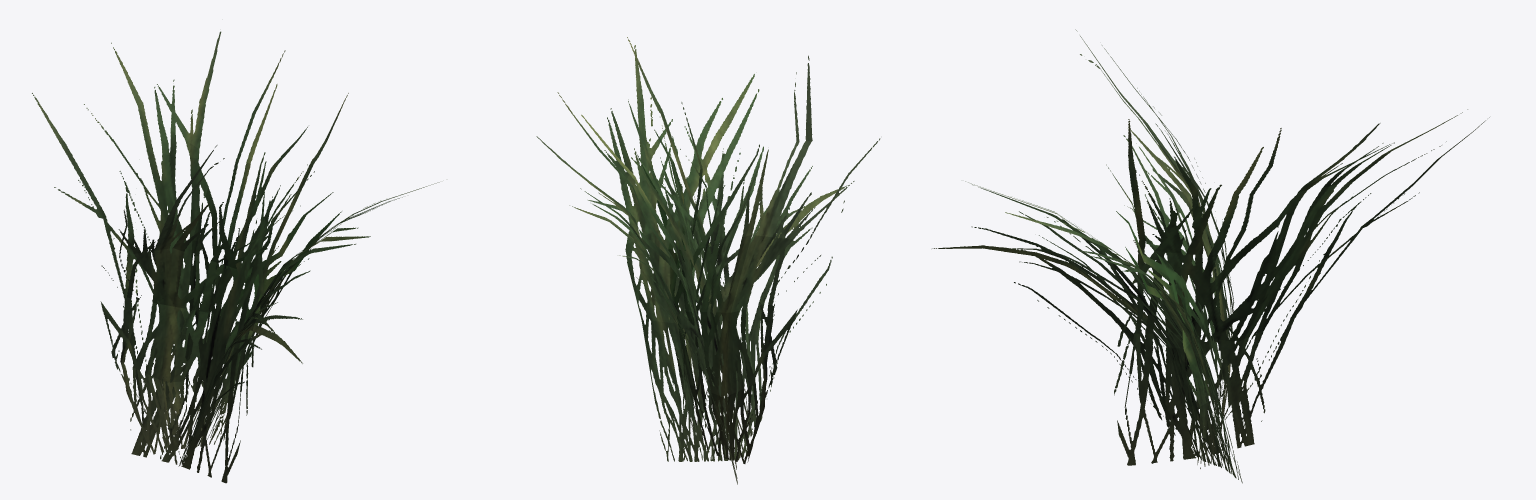
The model's file is grass_mid_1.FBX.
The picture shows the model from 3 angles, left to right: view 1: azimuth 30°, elevation 25°; view 2: azimuth 150°, elevation 25°; view 3: azimuth 270°, elevation 25°; orthographic projection. The views are drawn at different scales.
Visible parts, largest first — view 1: grass_mid_1; view 2: grass_mid_1; view 3: grass_mid_1.
Part boxes in pixels (x1,y1,x2,y2): grass_mid_1: [32, 31, 439, 483]; grass_mid_1: [536, 37, 880, 484]; grass_mid_1: [932, 29, 1489, 483].
Size of the model in its own units: 27.5 by 31.59 by 39.27.
1 material, 1 textured.
